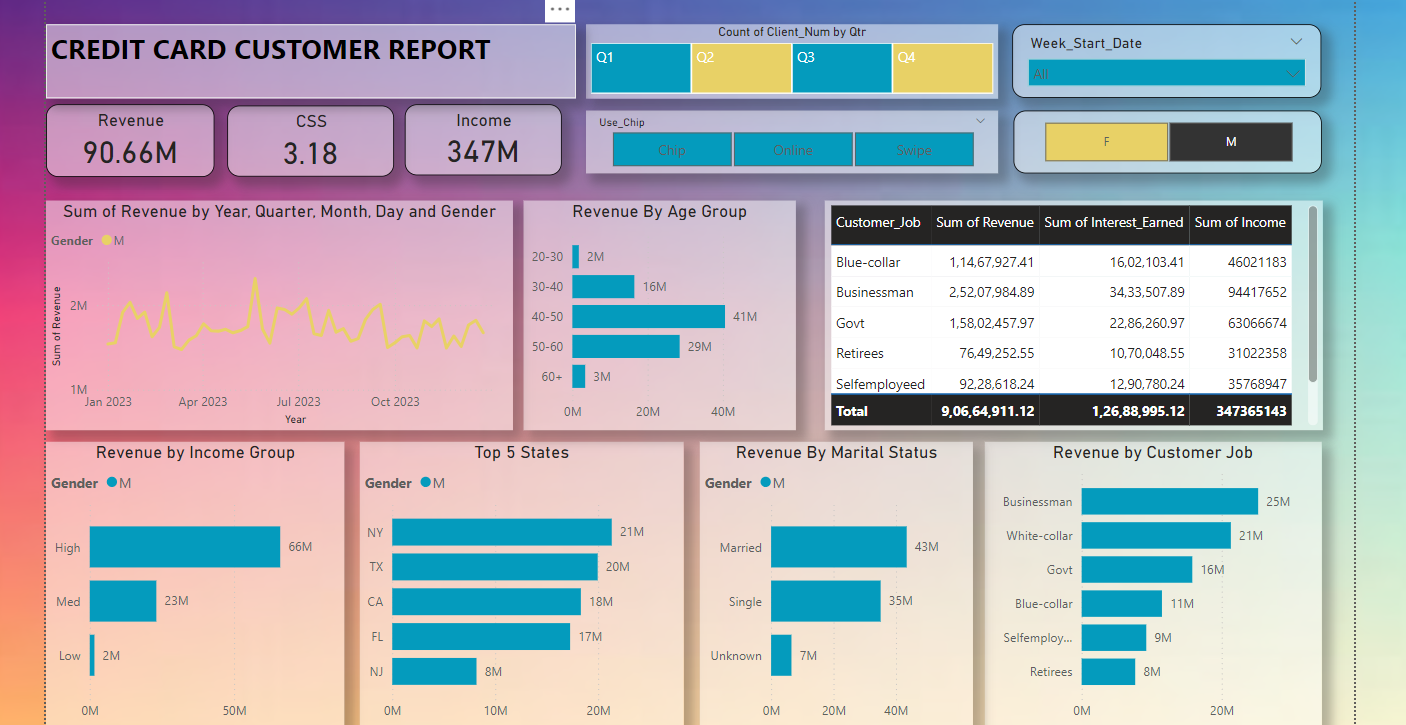

What the dashboard file says about the page in this screenshot:
{"tool":"powerbi","page":{"name":"Page 1","canvas":[1280,720],"ordinal":1},"visuals":[{"type":"tableEx","fields":{"Values":["cust_detail.Customer_Job","Sum(cc_detail.Revenue)","Sum(cc_detail.Interest_Earned)","cust_detail.Income"]},"box":[761.6,203.1,487.1,225],"z":0},{"type":"card","title":"Revenue","fields":{"Values":["Sum(cc_detail.Revenue)"]},"box":[0,108.4,164.7,71.4],"z":1000},{"type":"card","title":"CSS","fields":{"Values":["Avg(cust_detail.Cust_Satisfaction_Score)"]},"box":[177,109.8,163.3,70],"z":2000},{"type":"card","title":"Income","fields":{"Values":["Sum(cust_detail.Income)"]},"box":[351.3,108.4,153.7,70],"z":3000},{"type":"slicer","fields":{"Values":["cc_detail.Week_Start_Date"]},"box":[945.2,30.6,302,72.1],"z":4000},{"type":"treemap","fields":{"Group":["cc_detail.Qtr"],"Values":["CountNonNull(cust_detail.Client_Num)"]},"box":[528.3,30.2,403.4,72.7],"z":5000},{"type":"slicer","fields":{"Values":["cust_detail.Gender"]},"box":[946.8,115.3,301.9,61.7],"z":6000},{"type":"slicer","fields":{"Values":["cc_detail.Use_Chip"]},"box":[528.3,115.3,403.4,61.7],"z":7000},{"type":"textbox","box":[0,30.2,518.7,72.7],"z":8000},{"type":"lineChart","fields":{"Y":["Sum(cc_detail.Revenue)"],"Series":["cust_detail.Gender"],"Category":["cc_detail.Week_Start_Date.Variation.Date Hierarchy.Year","cc_detail.Week_Start_Date.Variation.Date Hierarchy.Quarter","cc_detail.Week_Start_Date.Variation.Date Hierarchy.Month","cc_detail.Week_Start_Date.Variation.Date Hierarchy.Day"]},"box":[0,203.1,456.9,225],"z":9000},{"type":"barChart","title":"Revenue by Income Group","fields":{"Category":["cust_detail.IncomeGroup"],"Y":["Sum(cc_detail.Revenue)"],"Series":["cust_detail.Gender"]},"box":[0,439.1,292.3,281.3],"z":10000},{"type":"barChart","title":"Top 5 States","fields":{"Category":["cust_detail.State_cd"],"Y":["Sum(cc_detail.Revenue)"],"Series":["cust_detail.Gender"]},"box":[307.4,439.1,317,281.3],"z":11000},{"type":"clusteredBarChart","title":"Revenue By Age Group","fields":{"Y":["Sum(cc_detail.Revenue)"],"Category":["cust_detail.AgeGroup"],"Series":["cust_detail.Gender"]},"box":[466.6,203.1,266.2,225],"z":12000},{"type":"barChart","title":"Revenue by Customer Job","fields":{"Category":["cust_detail.Customer_Job"],"Y":["Sum(cc_detail.Revenue)"],"Series":["cust_detail.Gender"]},"box":[918,439.1,329.3,281.3],"z":13000},{"type":"barChart","title":"Revenue By Marital Status","fields":{"Category":["cust_detail.Marital_Status"],"Y":["Sum(cc_detail.Revenue)"],"Series":["cust_detail.Gender"]},"box":[639.5,439.1,267.6,281.3],"z":14000}]}

Visuals, with their boxes in screenshot pixels (x1, y1, x2, y2):
tableEx - cust_detail.Customer_Job x Sum(cc_detail.Revenue): [left=821, top=198, right=1322, bottom=430]
"Revenue" card: [left=37, top=101, right=206, bottom=174]
"CSS" card: [left=219, top=102, right=387, bottom=174]
"Income" card: [left=398, top=101, right=556, bottom=173]
slicer - cc_detail.Week_Start_Date: [left=1010, top=21, right=1321, bottom=95]
treemap - cc_detail.Qtr x CountNonNull(cust_detail.Client_Num): [left=580, top=20, right=996, bottom=95]
slicer - cust_detail.Gender: [left=1011, top=108, right=1322, bottom=171]
slicer - cc_detail.Use_Chip: [left=580, top=108, right=996, bottom=171]
textbox: [left=37, top=20, right=571, bottom=95]
lineChart - Sum(cc_detail.Revenue) x cust_detail.Gender: [left=37, top=198, right=507, bottom=430]
"Revenue by Income Group" barChart: [left=37, top=441, right=338, bottom=724]
"Top 5 States" barChart: [left=353, top=441, right=679, bottom=724]
"Revenue By Age Group" clusteredBarChart: [left=517, top=198, right=791, bottom=430]
"Revenue by Customer Job" barChart: [left=982, top=441, right=1321, bottom=724]
"Revenue By Marital Status" barChart: [left=695, top=441, right=970, bottom=724]
